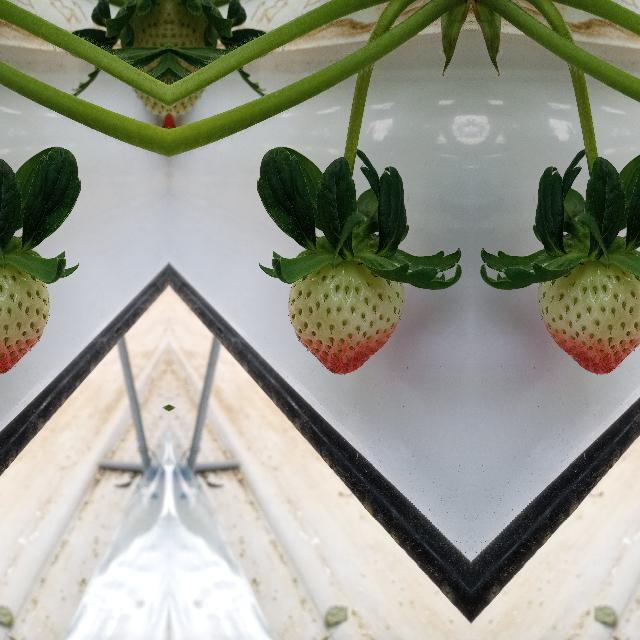Health_50: (287, 260, 405, 376), (536, 260, 640, 375), (0, 260, 49, 375)
